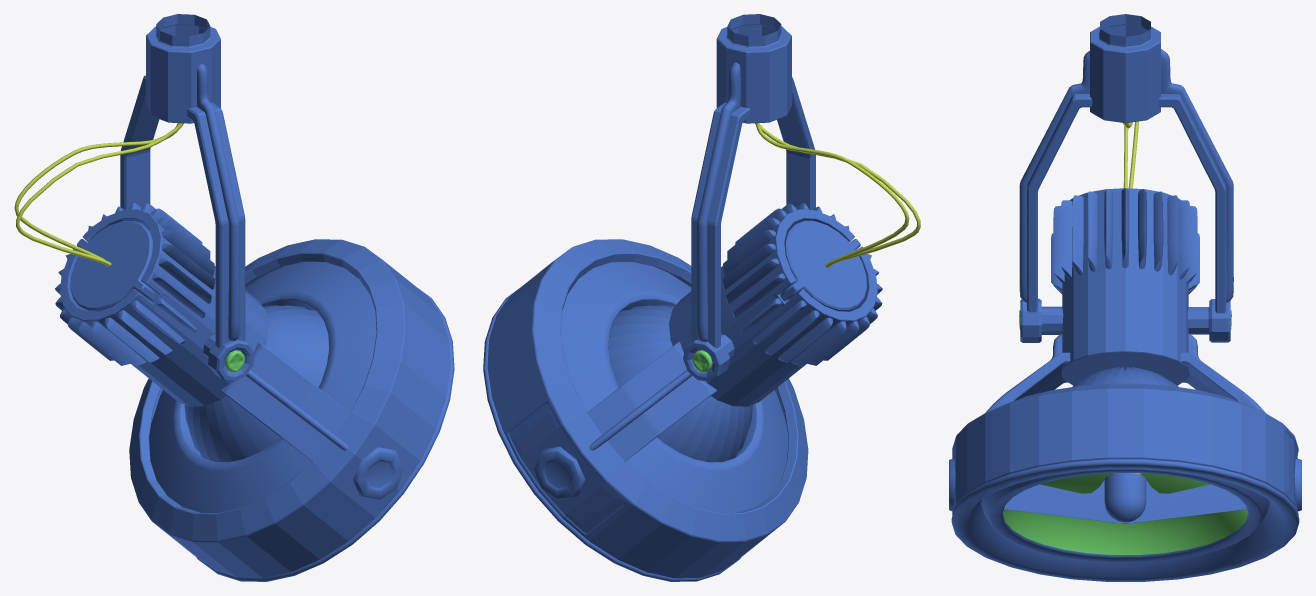
The model's file is House_Lamp_03.FBX.
3 renders of one model, left to right at view 1: azimuth 30°, elevation 25°; view 2: azimuth 150°, elevation 25°; view 3: azimuth 270°, elevation 25°, orthographic.
Visible parts, largest first — view 1: House_Lamp_03_Black, House_Lamp_03_Line; view 2: House_Lamp_03_Black, House_Lamp_03_Line; view 3: House_Lamp_03_Black, House_Lamp_03_Metal, House_Lamp_03_Line.
Part boxes in pixels (box(x1,y1,x2,y2)): House_Lamp_03_Black: box(55, 14, 454, 581); House_Lamp_03_Line: box(14, 123, 183, 266); House_Lamp_03_Black: box(483, 14, 882, 581); House_Lamp_03_Line: box(755, 123, 920, 267); House_Lamp_03_Black: box(949, 14, 1301, 581); House_Lamp_03_Metal: box(1002, 310, 1248, 554); House_Lamp_03_Line: box(1123, 121, 1138, 188).
Bounding box in the file's own units: 19.65 × 25.35 × 14.91.
